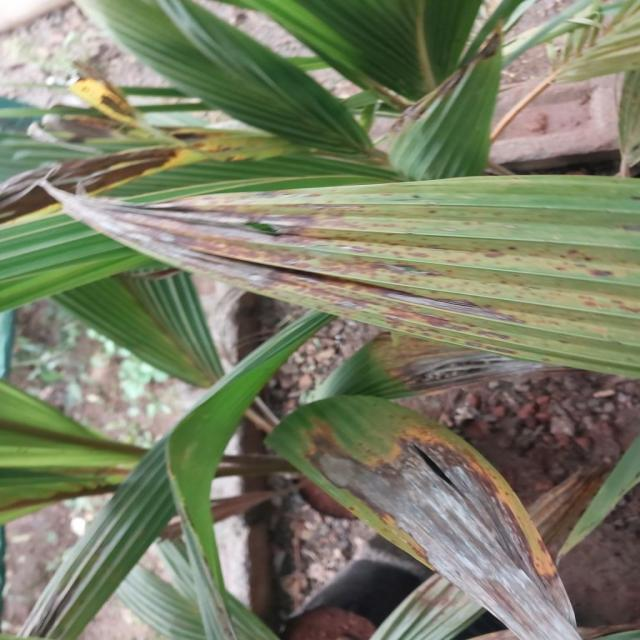gray leaf spot: (47, 181, 640, 383), (268, 398, 578, 640), (308, 333, 546, 400)
